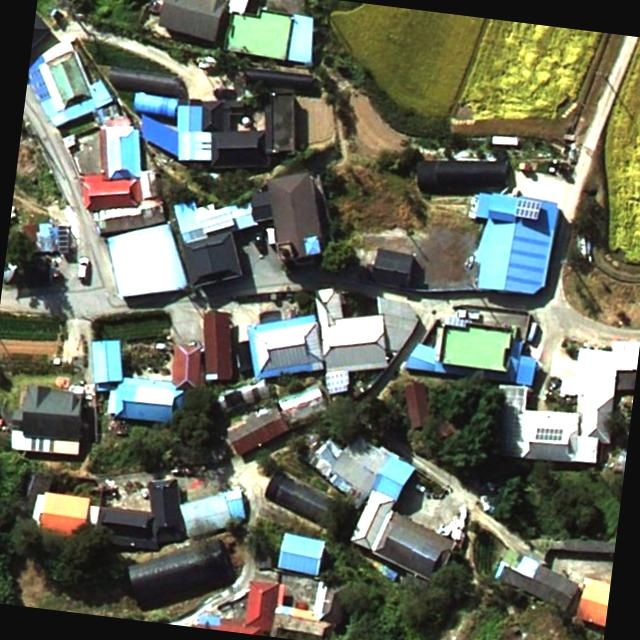solar: (320, 367, 352, 398), (510, 196, 542, 222), (534, 425, 564, 444)
